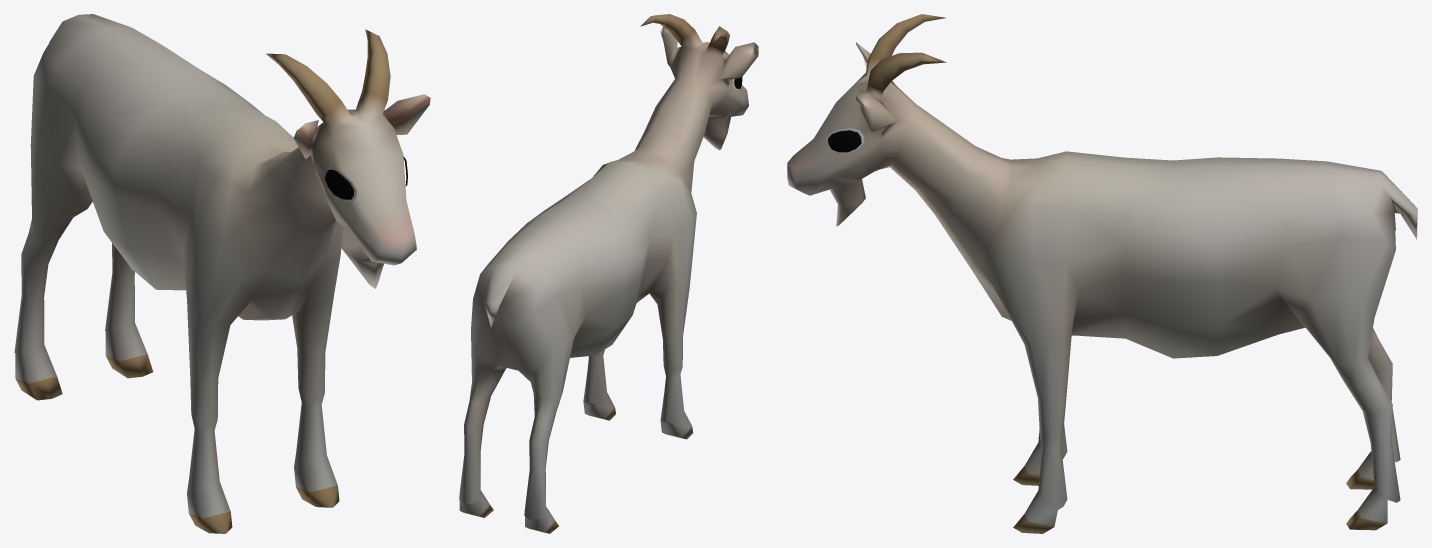
Rendered from kit-goat.glb.
The picture shows the model from 3 angles, left to right: view 1: azimuth 30°, elevation 25°; view 2: azimuth 150°, elevation 25°; view 3: azimuth 270°, elevation 25°; orthographic projection. The views are drawn at different scales.
Parts seen in each view (by area): view 1: base; view 2: base; view 3: base.
Boxes of the visible parts, left/top/right/bottom form: base: left=14, top=14, right=430, bottom=533; base: left=459, top=14, right=758, bottom=533; base: left=787, top=14, right=1417, bottom=533.
Size of the model in its own units: 0.3275 by 1.02 by 1.24.
